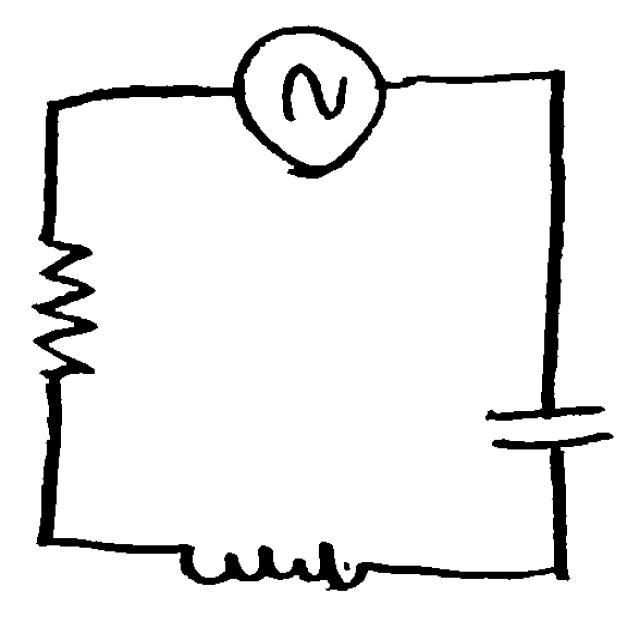ac: (214, 11, 393, 188)
inductor: (160, 512, 385, 609), (472, 390, 622, 470)
resistor: (20, 220, 109, 407)
